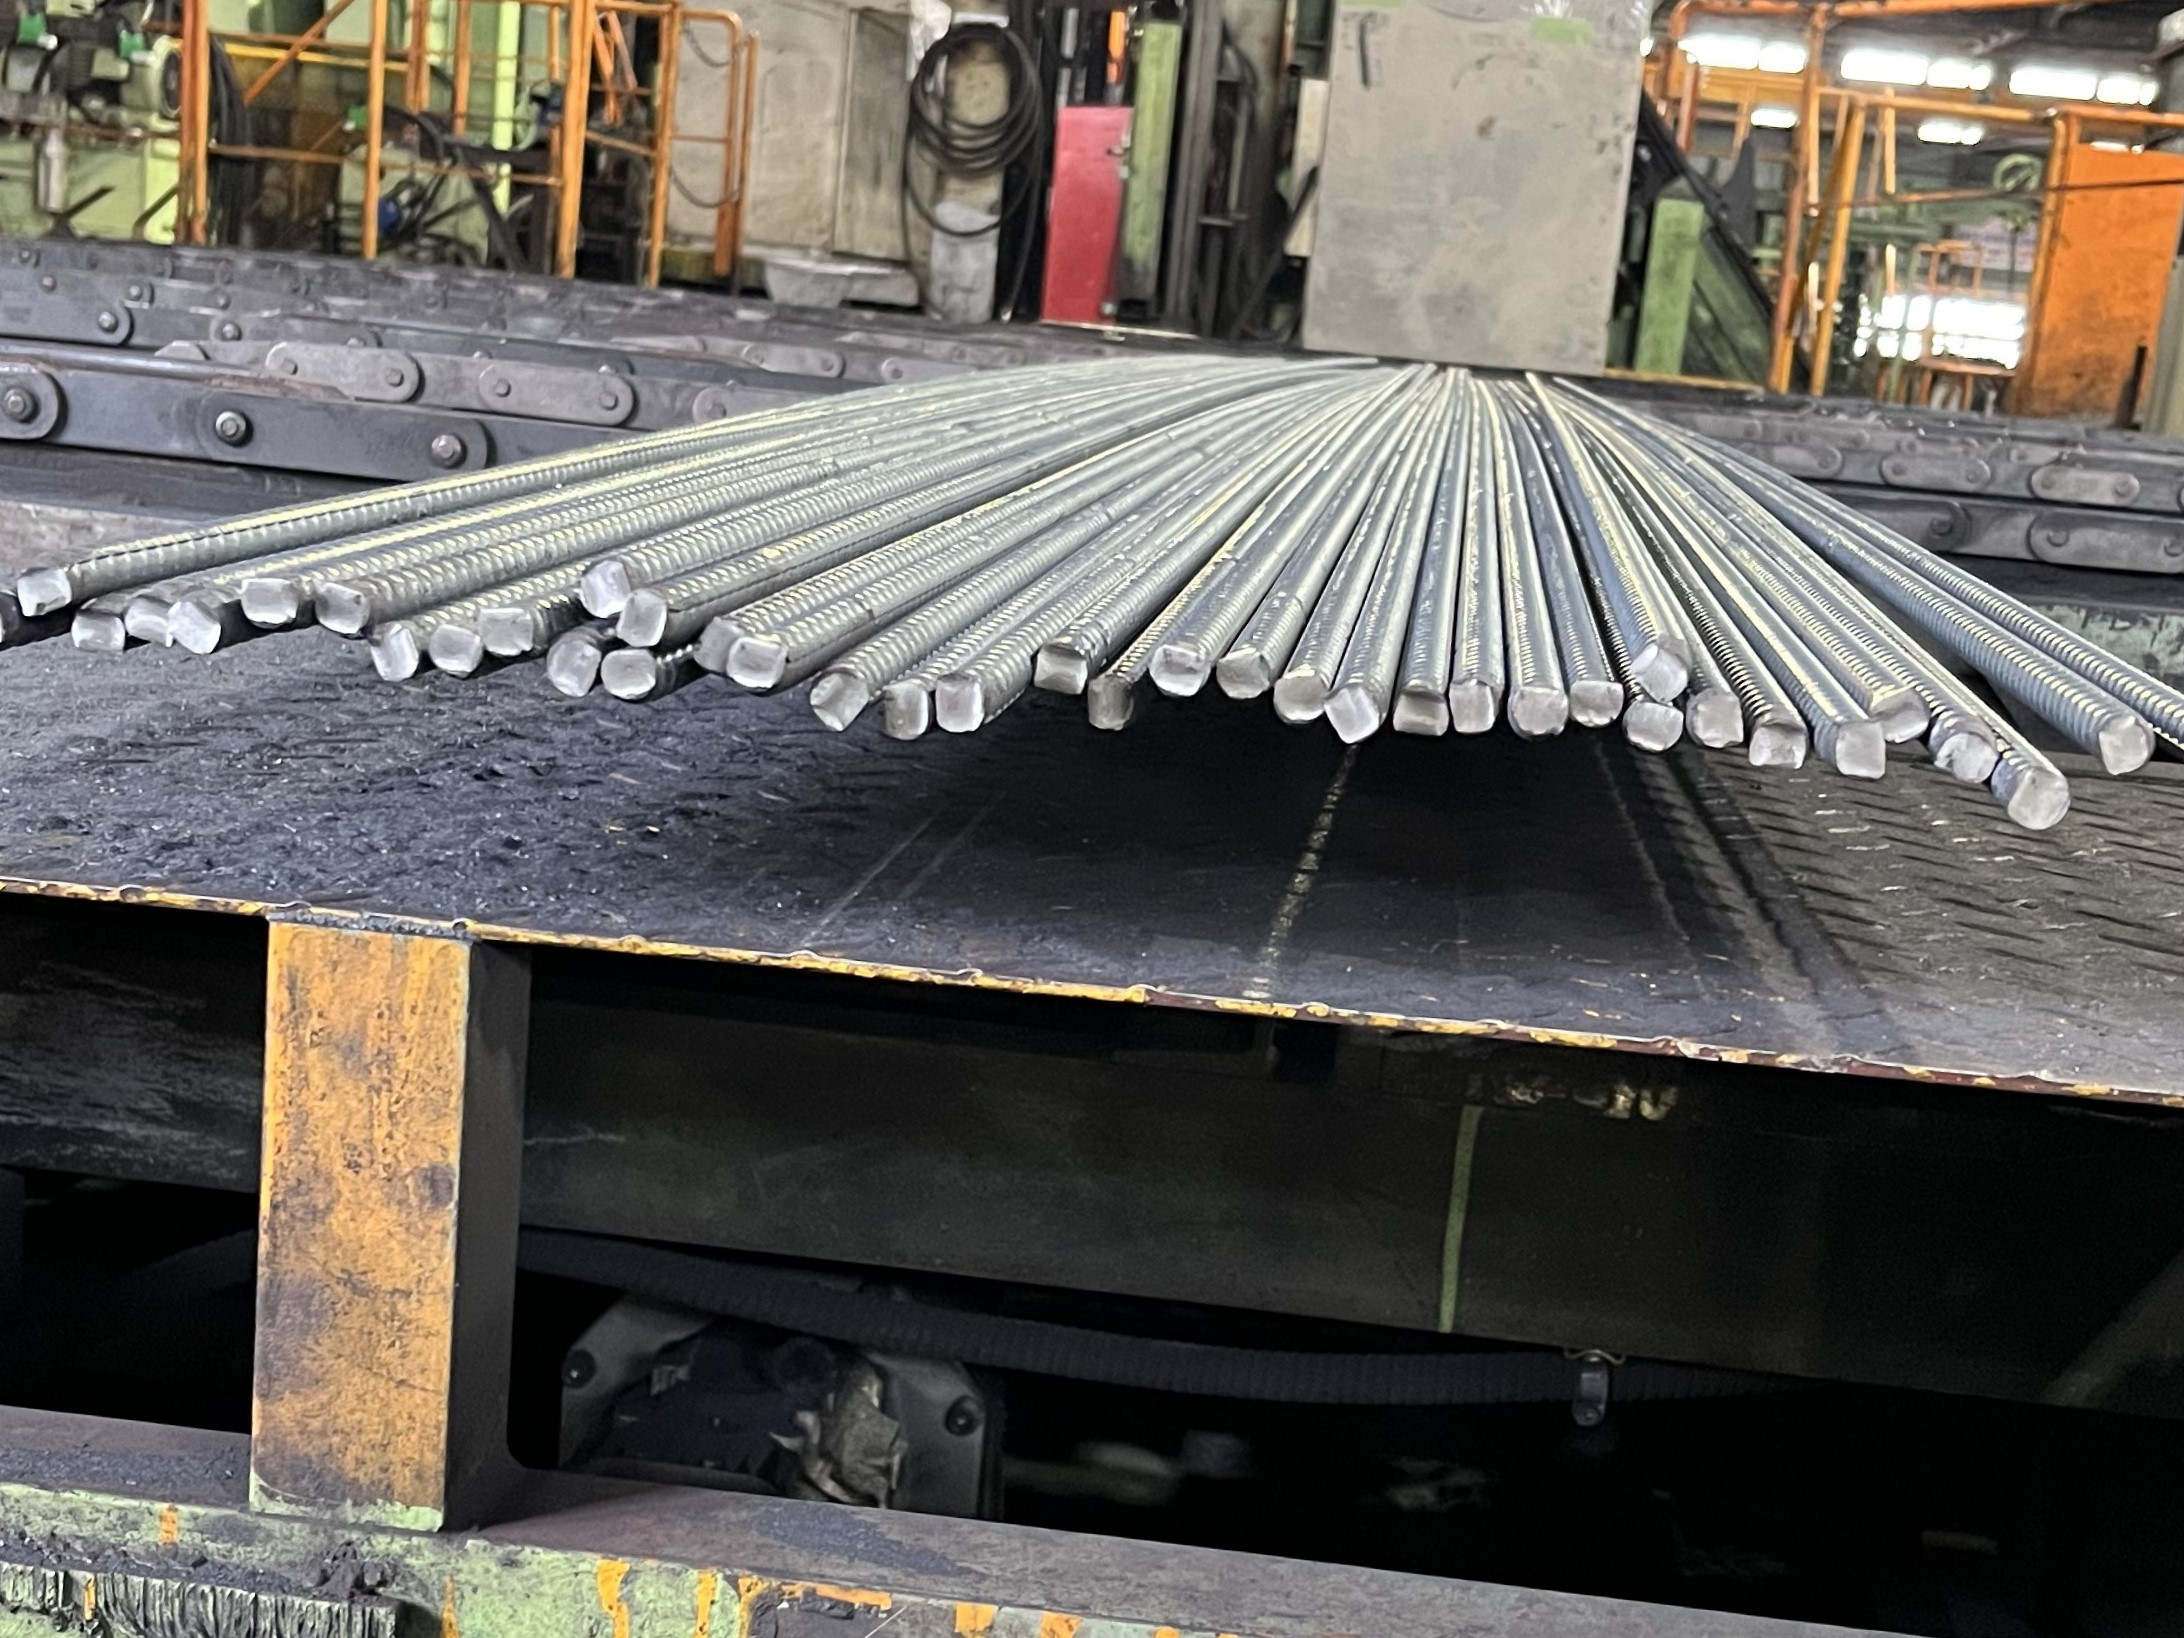rod: (2005, 766, 2072, 833), (1931, 728, 2005, 786), (2095, 711, 2158, 778), (1684, 687, 1747, 748), (807, 669, 868, 731), (1627, 642, 1690, 702), (1871, 687, 1935, 747), (578, 556, 636, 619), (1620, 699, 1685, 754), (366, 616, 420, 683), (612, 585, 669, 647), (722, 637, 786, 692), (934, 673, 989, 736), (1505, 687, 1570, 740), (426, 619, 485, 678), (1833, 717, 1888, 779), (1324, 685, 1381, 743), (14, 563, 74, 618), (239, 575, 299, 630), (598, 647, 659, 702), (1147, 643, 1207, 699), (475, 606, 537, 659), (547, 638, 600, 700), (690, 613, 743, 674), (311, 580, 368, 637), (1032, 640, 1089, 697), (1747, 719, 1807, 773), (167, 599, 222, 656), (1271, 669, 1328, 724), (879, 680, 930, 740), (1214, 647, 1273, 699), (1391, 687, 1451, 736), (69, 606, 126, 657), (1567, 678, 1625, 728), (1446, 681, 1500, 735), (122, 594, 174, 649), (1087, 674, 1133, 731)
